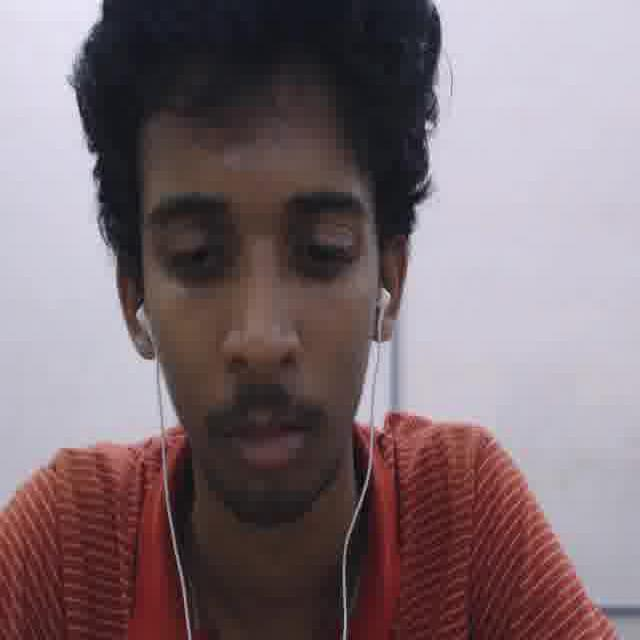Boredom: (128, 84, 378, 508)
